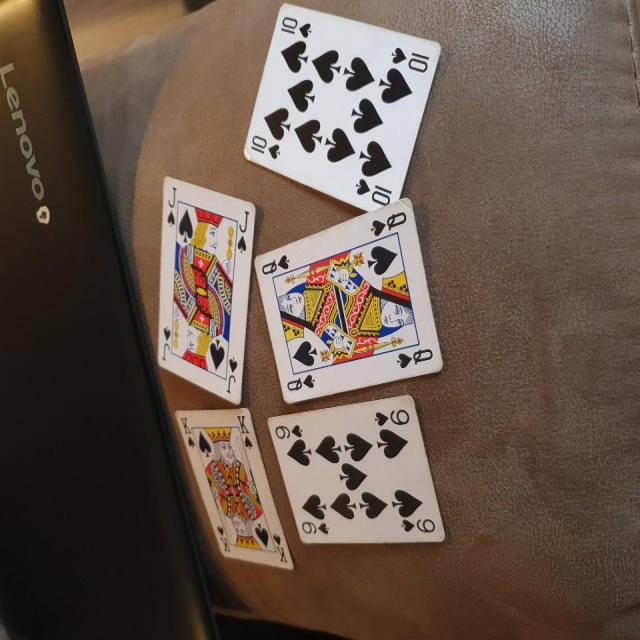10 Spades: (240, 1, 446, 214)
9 Spades: (260, 384, 457, 559)
J Spades: (152, 170, 257, 405)
K Spades: (170, 397, 298, 583)
Q Spades: (254, 199, 452, 400)
